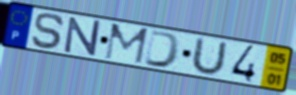4: (228, 43, 258, 85)
D: (142, 28, 183, 70)
M: (102, 22, 151, 66)
N: (63, 16, 102, 58)
S: (30, 12, 67, 51)
U: (188, 36, 230, 77)
